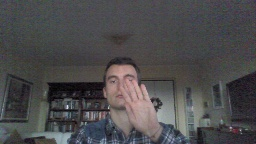Mano_aperta: (117, 76, 160, 135)
